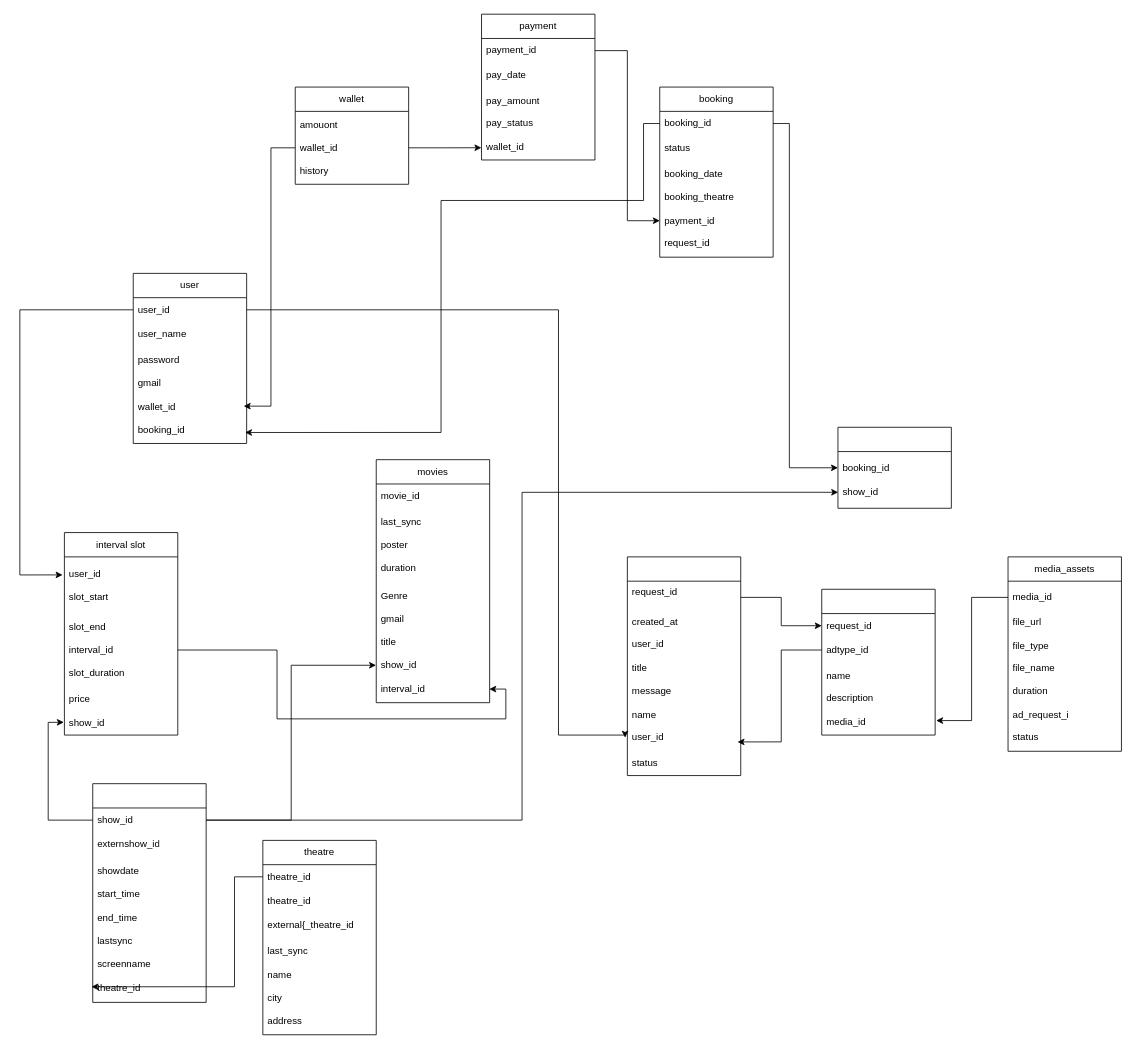
Some shapes in this 1136 by 1049 pixel diagram are drawn without their labels. Here are the shapes that lost their labels. From the top down, the box of each, then its label:
(837, 426, 951, 508): show_booking
(627, 556, 741, 776): advertisement request
(821, 588, 935, 735): advertisement_types
(92, 783, 206, 1002): shows
